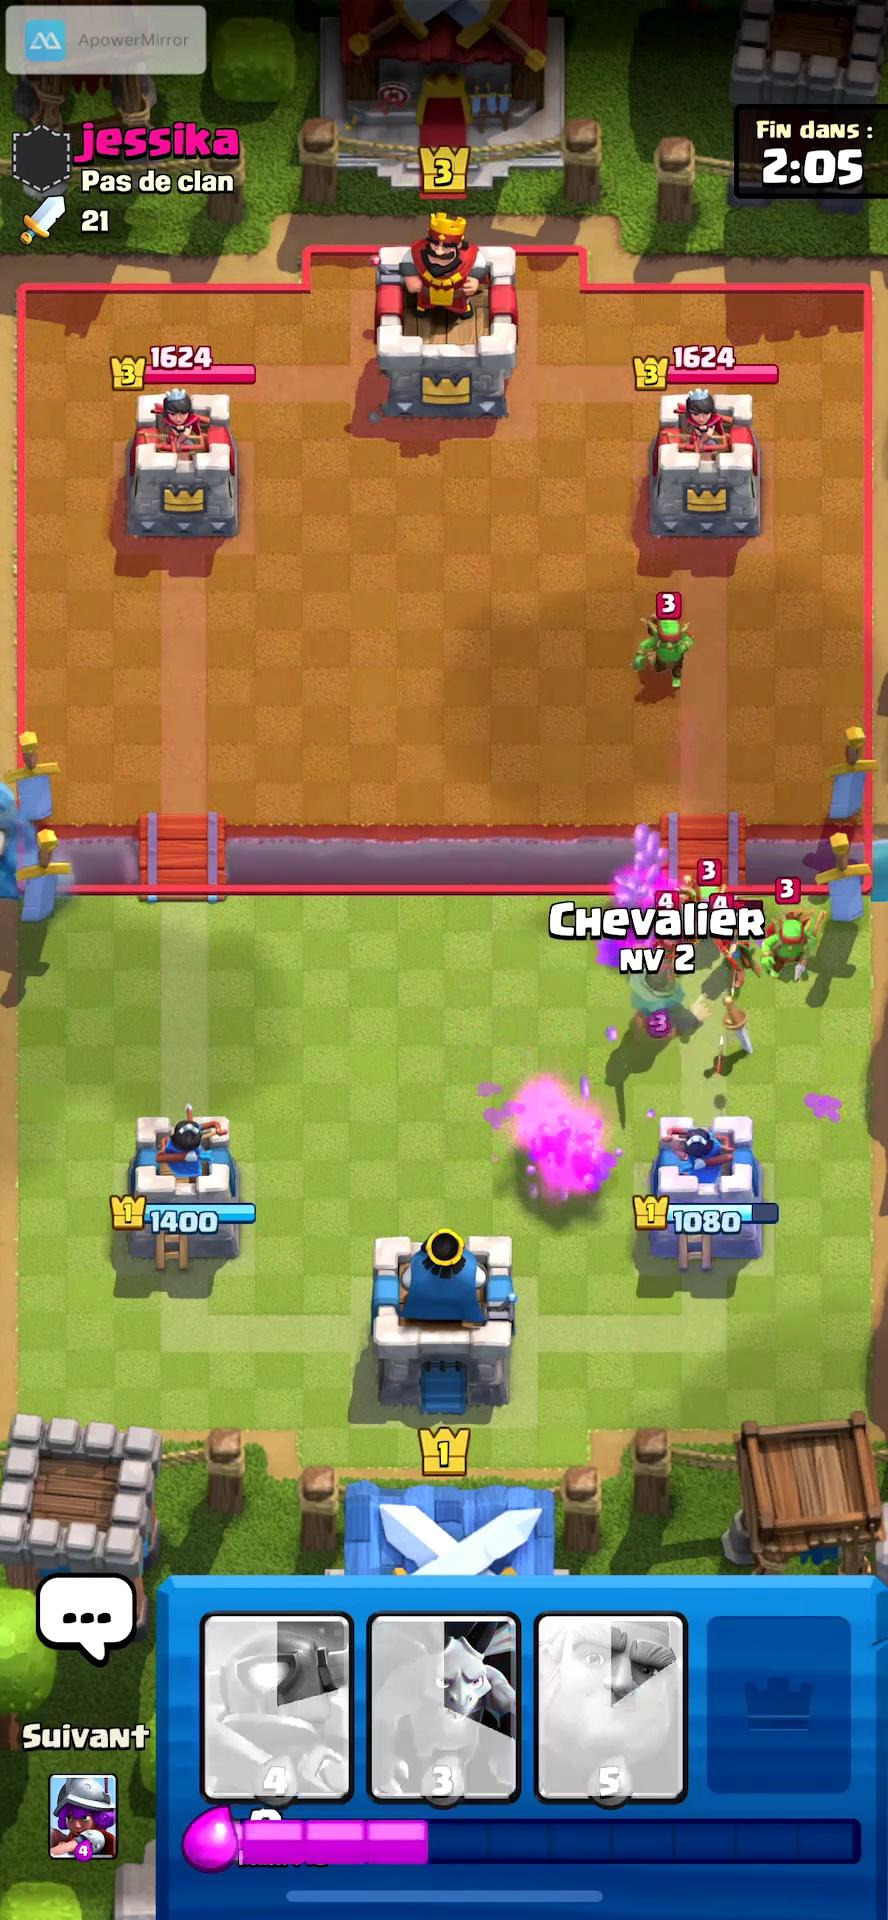chevalier: (622, 970, 706, 1056)
gobelin: (642, 616, 707, 697), (774, 912, 815, 999)
